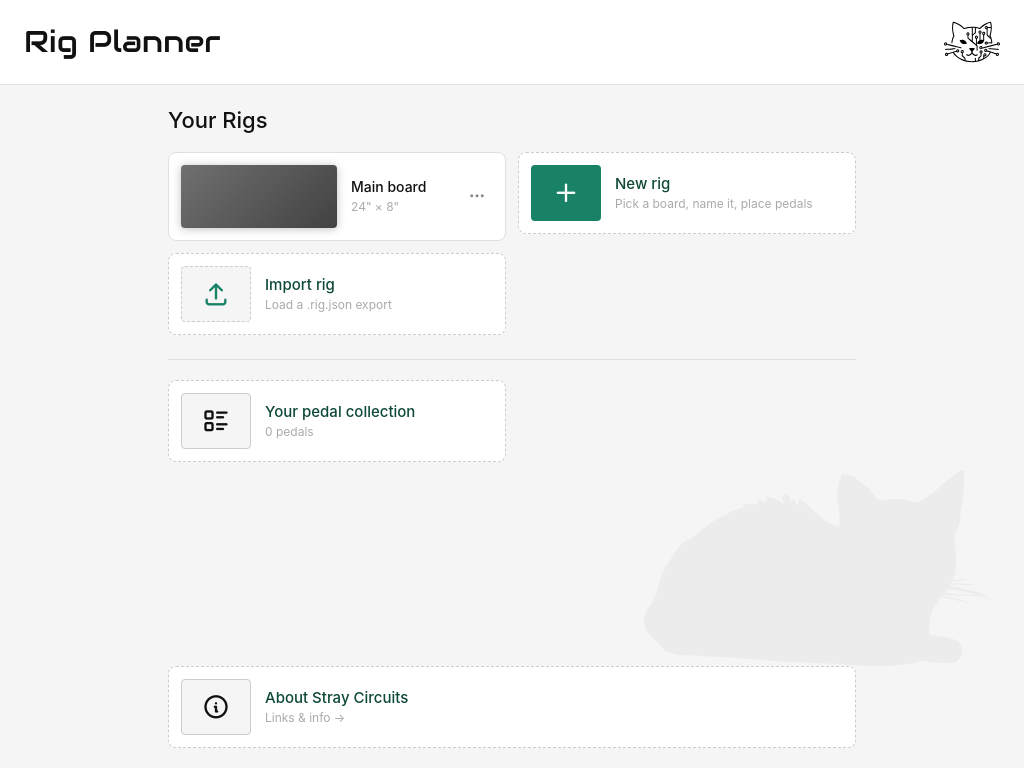
it: App boot › opens a rig when its card is clicked
Expected: the heading "Your Rigs" is shown, top-left (168, 107), bottom-right (268, 133)
Step 1. Click the text "Main board" → (389, 187), box top-left (351, 178), bottom-right (426, 195)
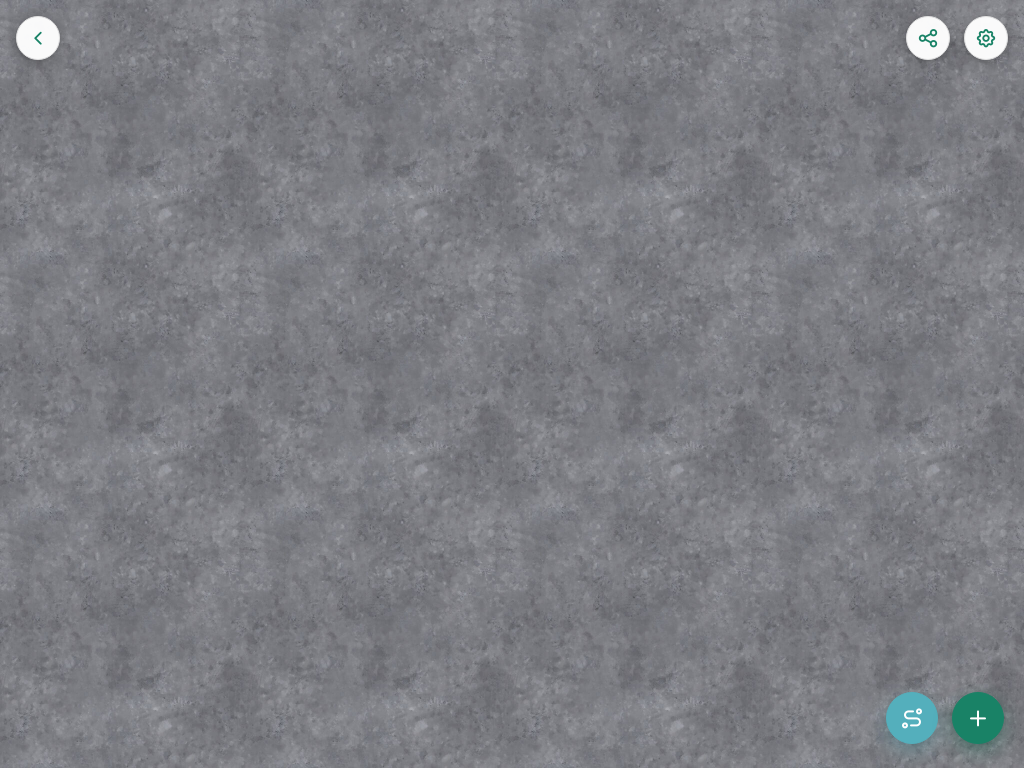
Now the button named "Add pedal" is shown, box top-left (952, 692), bottom-right (1004, 744)
